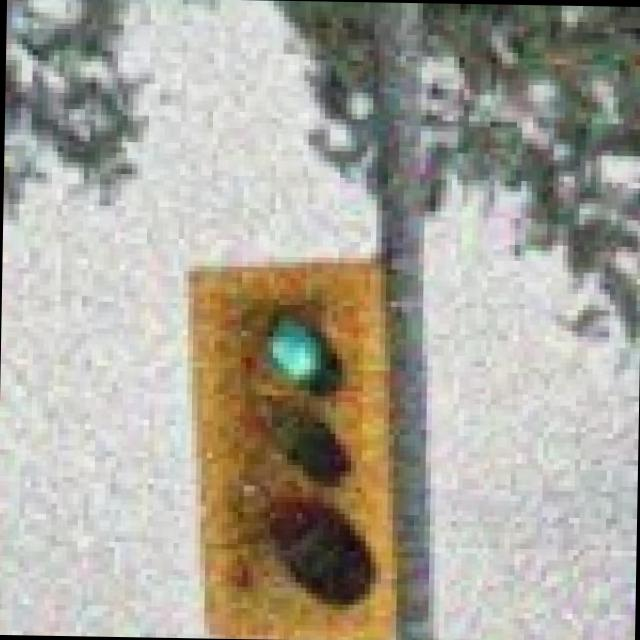green-lights: (246, 290, 364, 398)
